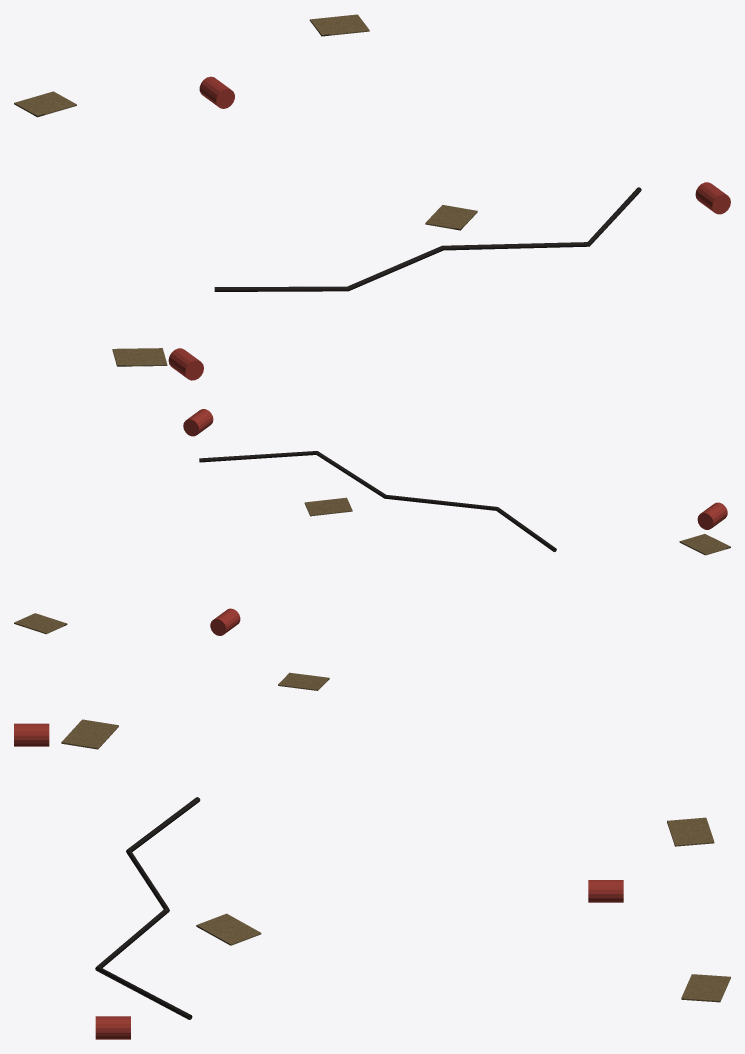
The model's file is basement-floor-debris.glb.
3 views of the same model, one above another, from view 1: azimuth 30°, elevation 25°; view 2: azimuth 150°, elevation 25°; view 3: azimuth 270°, elevation 25° (orthographic). The views are drawn at different scales.
Parts seen in each view (by area): view 1: SM_lonely_basement_floor_debris_Paper_Aged, SM_Prop_ExtensionCord, SM_lonely_basement_floor_debris_Plastic_DetergentRed; view 2: SM_lonely_basement_floor_debris_Paper_Aged, SM_Prop_ExtensionCord, SM_lonely_basement_floor_debris_Plastic_DetergentRed; view 3: SM_lonely_basement_floor_debris_Paper_Aged, SM_lonely_basement_floor_debris_Plastic_DetergentRed, SM_Prop_ExtensionCord.
Part boxes in pixels (x1,y1,x2,y2): SM_lonely_basement_floor_debris_Paper_Aged: (14,14,477,366); SM_Prop_ExtensionCord: (214,187,641,291); SM_lonely_basement_floor_debris_Plastic_DetergentRed: (168,76,730,380); SM_lonely_basement_floor_debris_Paper_Aged: (14,497,730,690); SM_Prop_ExtensionCord: (199,451,556,551); SM_lonely_basement_floor_debris_Plastic_DetergentRed: (183,409,727,635); SM_lonely_basement_floor_debris_Paper_Aged: (61,719,730,1002); SM_lonely_basement_floor_debris_Plastic_DetergentRed: (14,723,623,1039); SM_Prop_ExtensionCord: (95,797,200,1019).
Size of the model in its own units: 4.94 by 0.158 by 4.66.
Materials: 3 (1 with a texture image).
